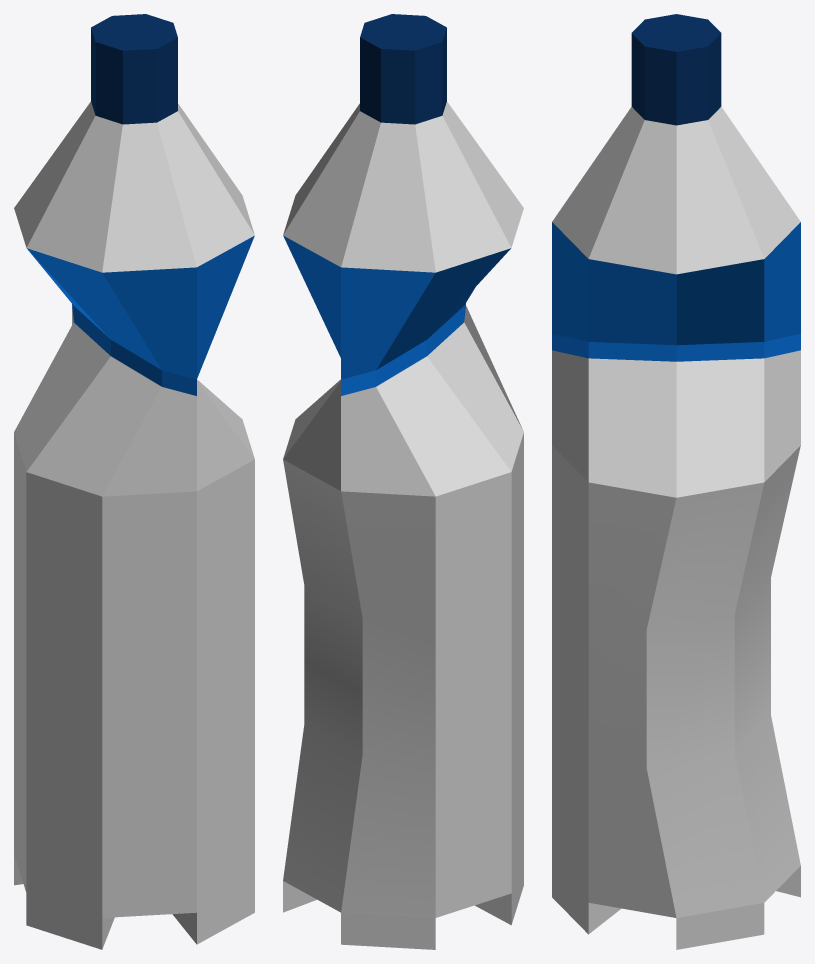
The model's file is low poly bottle.fbx.
The picture shows the model from 3 angles, left to right: view 1: azimuth 30°, elevation 25°; view 2: azimuth 150°, elevation 25°; view 3: azimuth 270°, elevation 25°; orthographic projection.
Visible parts, largest first — view 1: pCylinder2; view 2: pCylinder2; view 3: pCylinder2.
Part boxes in pixels (x1=…): pCylinder2: x1=14, y1=14, x2=254, y2=949; pCylinder2: x1=283, y1=14, x2=523, y2=949; pCylinder2: x1=552, y1=14, x2=800, y2=949.
Size of the model in its own units: 2.82 by 10.82 by 2.82.
